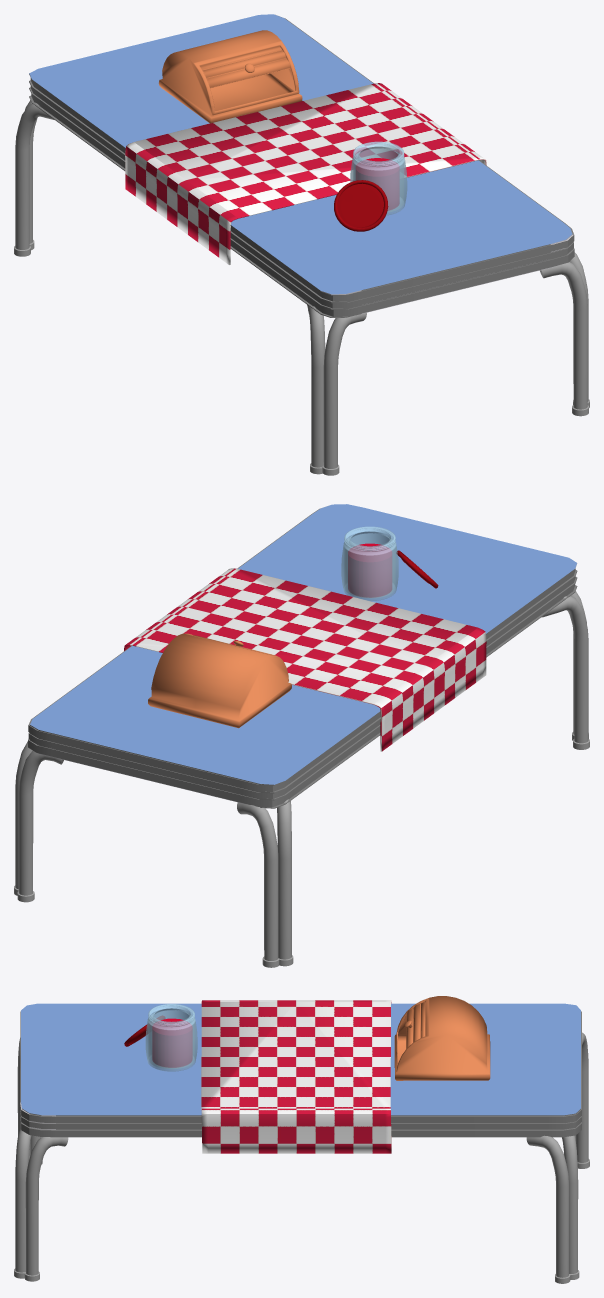
Rendered from LEVEL.fbx.
3 renders of one model, top to bottom at view 1: azimuth 30°, elevation 25°; view 2: azimuth 150°, elevation 25°; view 3: azimuth 270°, elevation 25°, orthographic. The views are drawn at different scales.
Parts seen in each view (by area): view 1: Plane.016, Plane.017, Cylinder.013, Sphere.004, Cylinder.015, Circle.011, Cylinder; view 2: Plane.016, Plane.017, Cylinder.013, Sphere.004, Cylinder.015, Cylinder; view 3: Plane.016, Plane.017, Cylinder.013, Sphere.004, Cylinder.015, Cylinder.
Boxes of the visible parts, x1,y1,x2,y2 form: Plane.016: (29,14,574,317); Plane.017: (125,83,486,264); Cylinder.013: (14,100,589,475); Sphere.004: (158,30,302,123); Cylinder.015: (350,141,407,215); Circle.011: (334,180,388,231); Cylinder: (356,158,399,210); Plane.016: (28,504,577,808); Plane.017: (124,568,486,751); Cylinder.013: (14,591,589,967); Sphere.004: (148,633,291,728); Cylinder.015: (341,526,398,601); Cylinder: (348,543,391,597); Plane.016: (20,1003,581,1137); Plane.017: (201,1000,391,1153); Cylinder.013: (14,1032,589,1283); Sphere.004: (394,996,490,1080); Cylinder.015: (145,1004,197,1071); Cylinder: (152,1018,192,1067).
Bounding box in the file's own units: 440 × 344 × 855.
